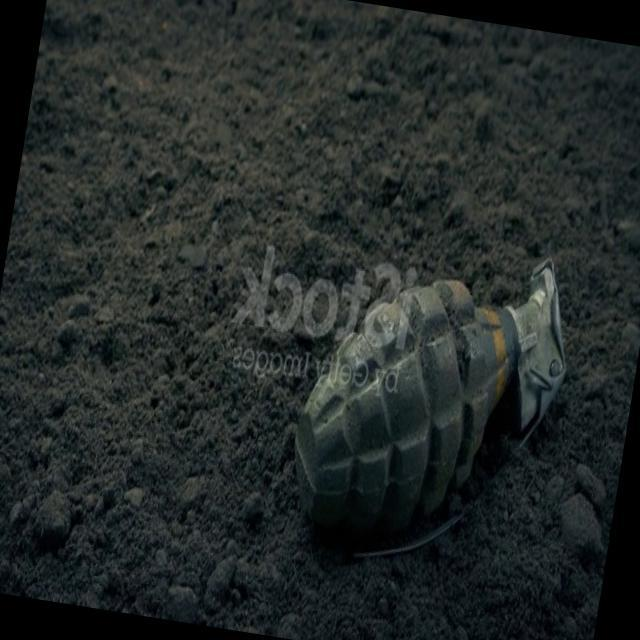grenade: (268, 222, 586, 600)
